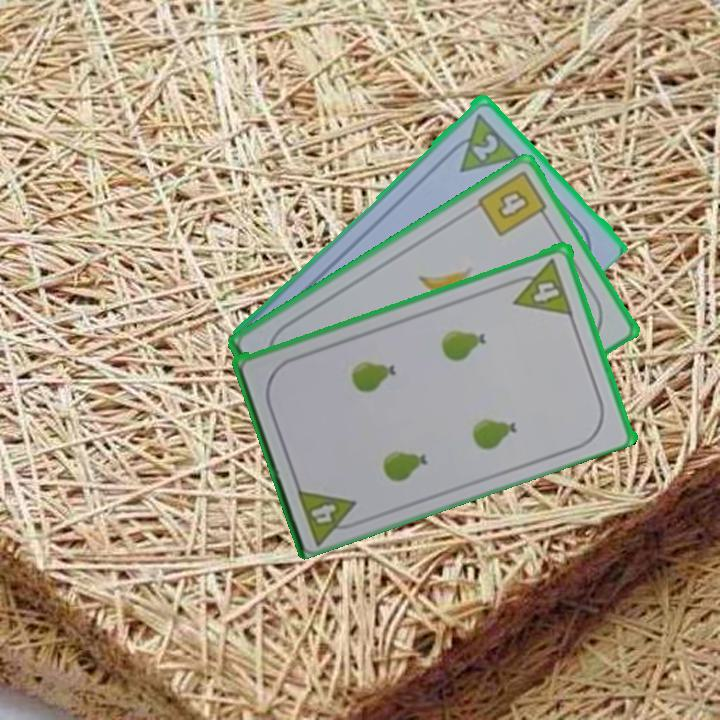2p: (468, 129, 501, 163)
4b: (474, 166, 553, 239)
4p: (293, 482, 366, 545), (505, 254, 575, 318)
